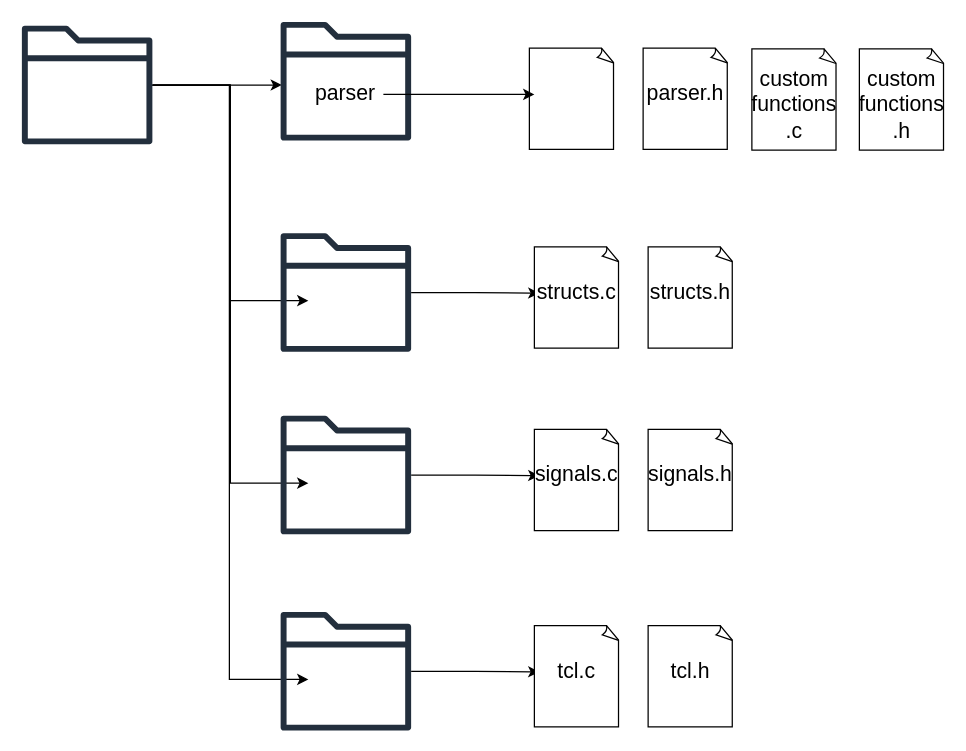
This 966x751 diagram has some shape labels left out. The centre of each missing label's shape, as x and y in pixels:
cad_tool: pixel 86 84
parser.c: pixel 571 98
signals: pixel 345 474
structs: pixel 345 291
TCL: pixel 345 670
